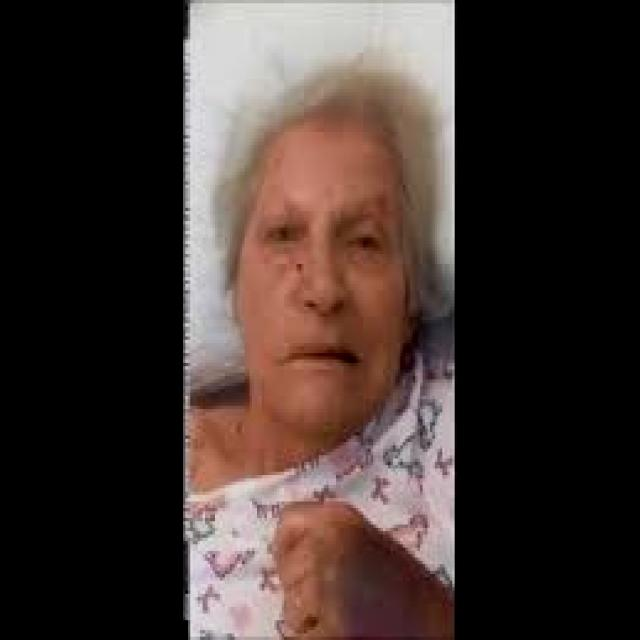stroke_face: (208, 35, 438, 470)
